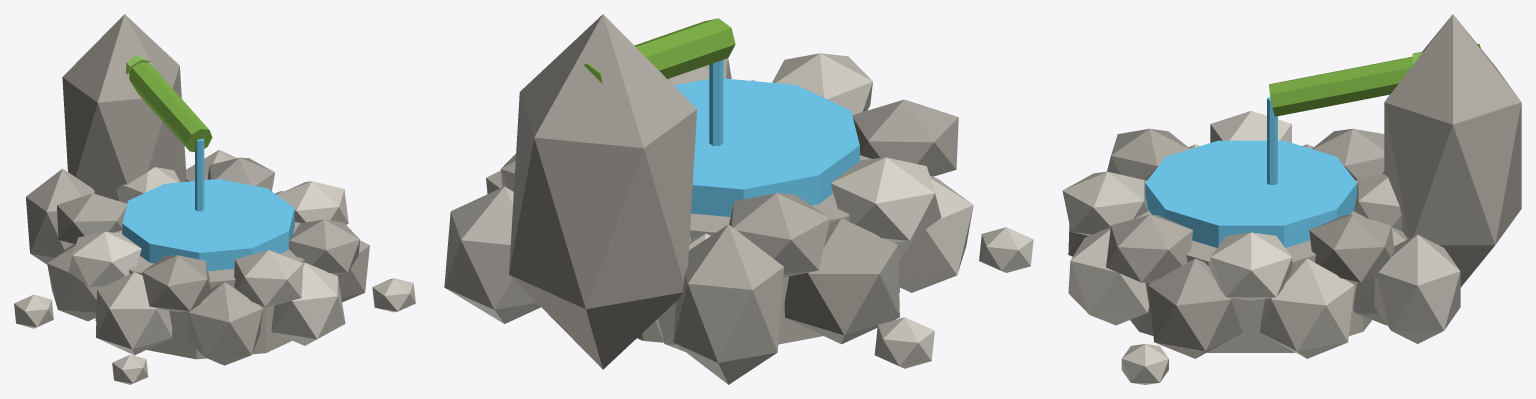
Rendered from fonte.glb.
3 renders of one model, left to right at view 1: azimuth 30°, elevation 25°; view 2: azimuth 150°, elevation 25°; view 3: azimuth 270°, elevation 25°, orthographic. The views are drawn at different scales.
Visible parts, largest first — view 1: Pedra_Traseira_Principal, Bacia_Agua, Bacia_Pedra_Baixa_6, Bacia_Pedra_Baixa_5, Bacia_Pedra_Baixa_7, Pedra_Traseira_Esquerda, Bacia_Pedra_Alta_7, Bacia_Pedra_Alta_6, Bacia_Pedra_Alta_5, Bica_Bambu, Bacia_Pedra_Alta_8, Bacia_Base (+11 smaller); view 2: Pedra_Traseira_Principal, Bacia_Agua, Pedra_Traseira_Esquerda, Bacia_Pedra_Baixa_4, Pedra_Traseira_Direita, Bacia_Pedra_Alta_5, Bacia_Pedra_Alta_6, Bacia_Pedra_Alta_4, Bacia_Pedra_Baixa_5, Bica_Bambu, Bacia_Pedra_Alta_7, Bacia_Base (+5 smaller); view 3: Pedra_Traseira_Principal, Bacia_Agua, Pedra_Traseira_Direita, Bacia_Pedra_Baixa_8, Bacia_Pedra_Baixa_1, Bica_Bambu, Bacia_Pedra_Baixa_7, Bacia_Pedra_Alta_1, Bacia_Pedra_Alta_8, Bacia_Pedra_Alta_2, Bacia_Pedra_Alta_7, Bacia_Base (+7 smaller).
Part boxes in pixels (x1,y1,x2,y2): Pedra_Traseira_Principal: (62,14,186,201); Bacia_Agua: (122,179,294,270); Bacia_Pedra_Baixa_6: (185,282,262,365); Bacia_Pedra_Baixa_5: (96,272,172,355); Bacia_Pedra_Baixa_7: (271,262,345,345); Pedra_Traseira_Esquerda: (26,168,94,264); Bacia_Pedra_Alta_7: (234,250,303,306); Bacia_Pedra_Alta_6: (142,255,211,312); Bacia_Pedra_Alta_5: (68,231,141,287); Bica_Bambu: (129,62,212,151); Bacia_Pedra_Alta_8: (288,219,359,274); Bacia_Base: (95,222,304,359); Pedra_Traseira_Principal: (509,14,697,369); Bacia_Agua: (674,78,859,216); Pedra_Traseira_Esquerda: (673,224,783,384); Bacia_Pedra_Baixa_4: (784,218,899,344); Pedra_Traseira_Direita: (444,186,540,323); Bacia_Pedra_Alta_5: (830,157,941,242); Bacia_Pedra_Alta_6: (852,99,958,176); Bacia_Pedra_Alta_4: (729,193,830,277); Bacia_Pedra_Baixa_5: (894,175,973,292); Bica_Bambu: (584,18,735,83); Bacia_Pedra_Alta_7: (772,53,872,114); Bacia_Base: (637,155,899,344); Pedra_Traseira_Principal: (1384,14,1521,287); Bacia_Agua: (1145,140,1356,247); Pedra_Traseira_Direita: (1374,234,1460,343); Bacia_Pedra_Baixa_8: (1148,258,1242,358); Bacia_Pedra_Baixa_1: (1259,258,1354,358); Bica_Bambu: (1269,43,1480,116); Bacia_Pedra_Baixa_7: (1068,227,1149,325); Bacia_Pedra_Alta_1: (1210,232,1291,300); Bacia_Pedra_Alta_8: (1106,214,1193,282); Bacia_Pedra_Alta_2: (1309,214,1394,282); Bacia_Pedra_Alta_7: (1062,171,1148,235); Bacia_Base: (1124,180,1378,352).
Bounding box in the file's own units: 1.79 × 1.26 × 1.82.
